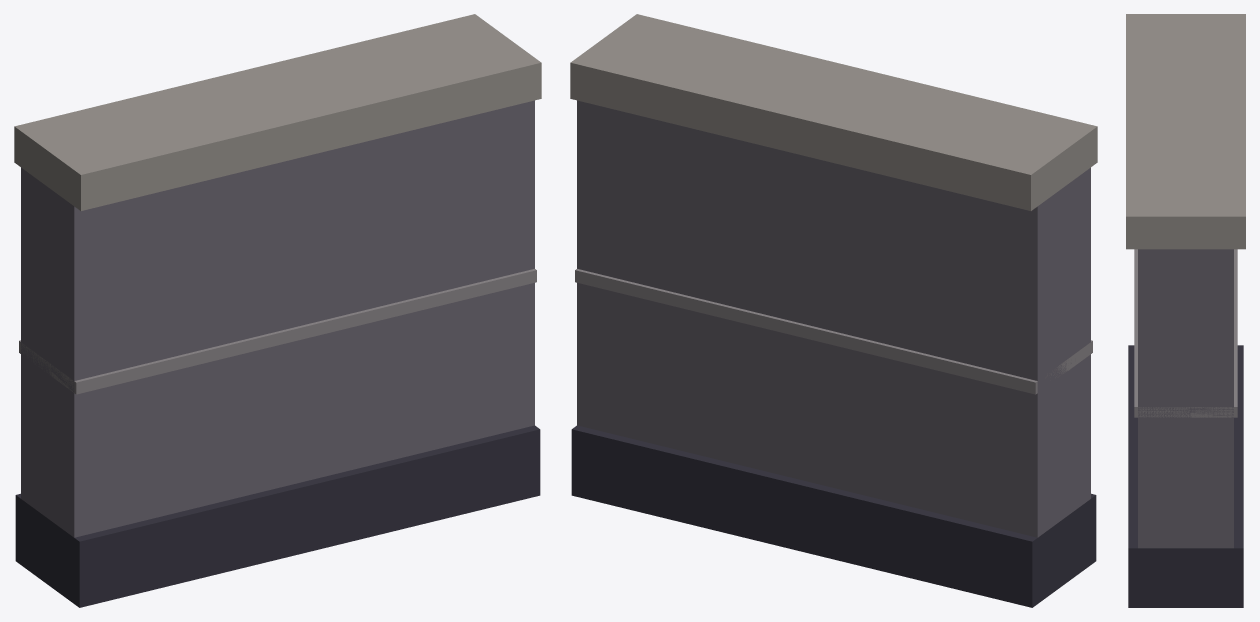
Rendered from wall_straight.fbx.
3 views of the same model, side by side, from view 1: azimuth 30°, elevation 25°; view 2: azimuth 150°, elevation 25°; view 3: azimuth 270°, elevation 25° (orthographic). The views are drawn at different scales.
Parts seen in each view (by area): view 1: wall_straight; view 2: wall_straight; view 3: wall_straight.
Part boxes in pixels (box(x1,y1,x2,y2)): wall_straight: box(14, 14, 541, 607); wall_straight: box(570, 14, 1097, 607); wall_straight: box(1126, 14, 1245, 607).
Size of the model in its own units: 4 by 3.6 by 1.
